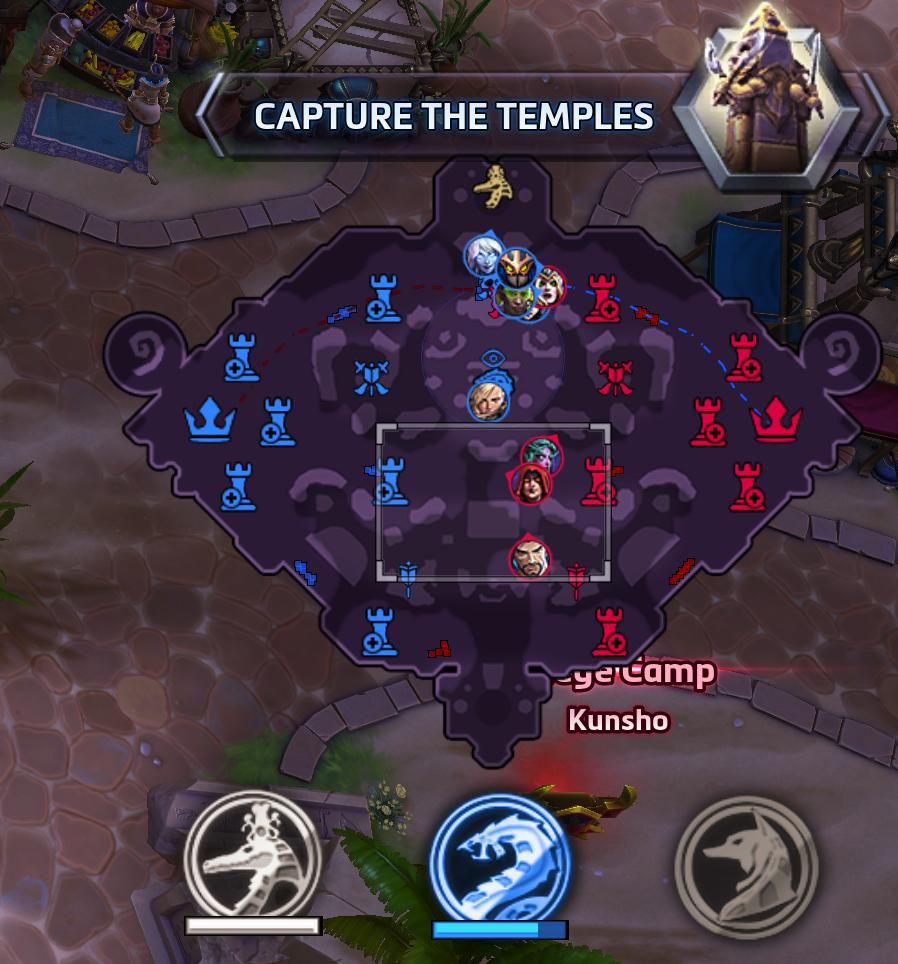blue nexus: (182, 394, 239, 442)
blue player: (466, 373, 511, 423), (495, 245, 539, 293), (491, 278, 539, 321), (463, 233, 504, 279), (532, 264, 567, 308)
blue tower: (369, 454, 410, 506), (219, 459, 258, 512), (364, 271, 403, 324), (222, 330, 261, 382), (258, 395, 297, 447), (361, 603, 398, 657)
red nexus: (749, 395, 803, 443)
red player: (508, 460, 552, 505), (508, 534, 550, 579), (519, 436, 562, 478)
red tower: (579, 455, 621, 506), (582, 272, 622, 324), (723, 331, 762, 384), (727, 459, 765, 512), (688, 396, 726, 447), (591, 603, 627, 656)
